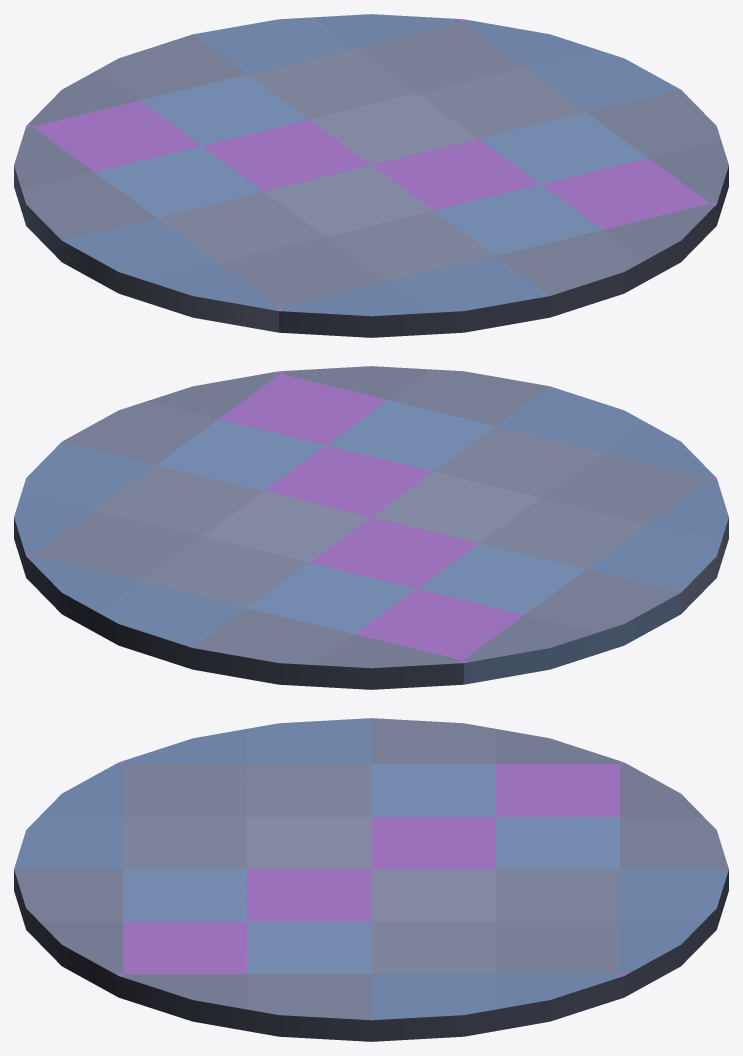
The model's file is chip_fab_wafer.obj.
3 renders of one model, top to bottom at view 1: azimuth 30°, elevation 25°; view 2: azimuth 150°, elevation 25°; view 3: azimuth 270°, elevation 25°, orthographic.
Bounding box in the file's own units: 0.36 × 0.012 × 0.36.
